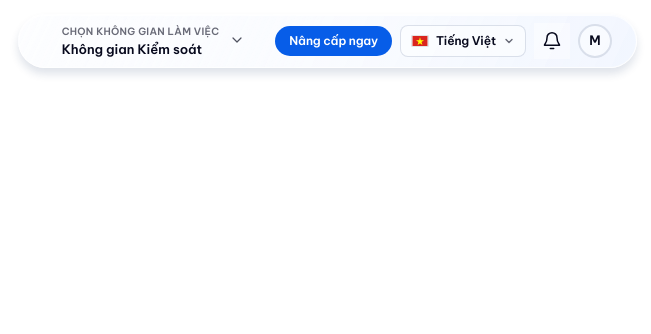
Test case: workspace topbar notifications › keeps unavailable entitlement data truthful and localized
This screenshot has width=651, height=334.
Click the button named "Menu người dùng" at (595, 41), box [578,24,612,58]
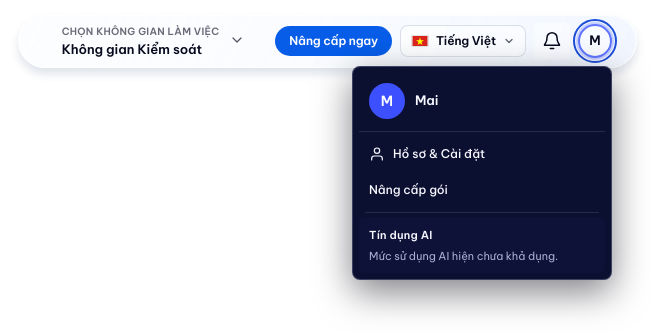
Expected: the message reads "Mức sử dụng AI hiện chưa khả dụng.", [369,248,558,262]
